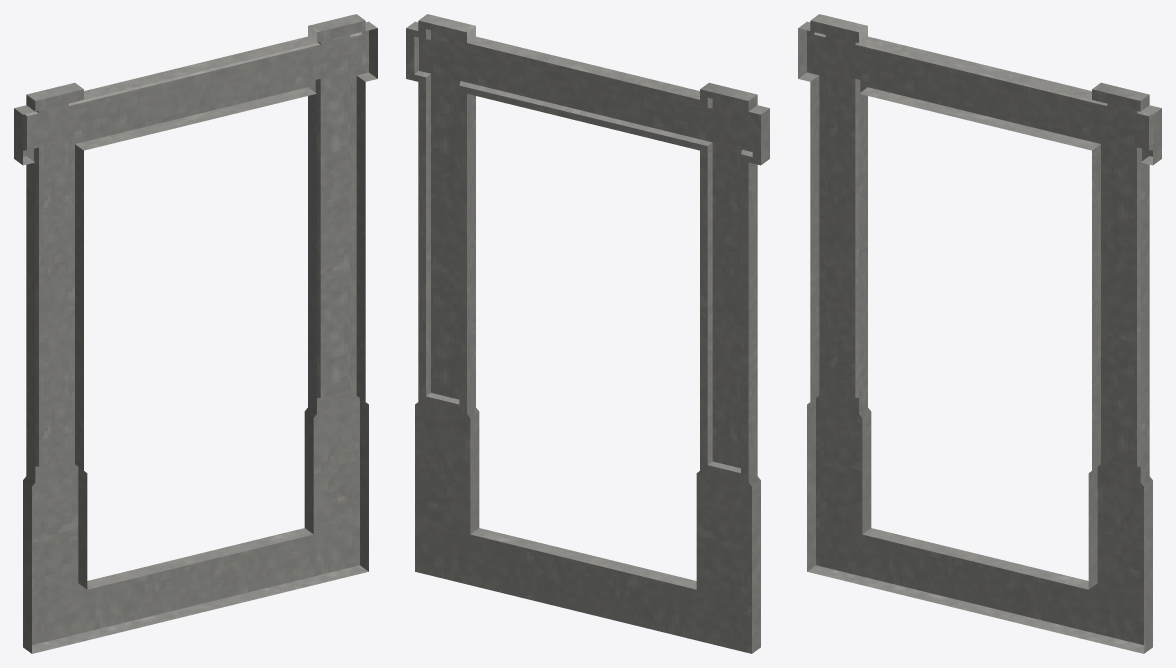
Rendered from GJ_Wall_Window_02_02.fbx.
The picture shows the model from 3 angles, left to right: view 1: azimuth 30°, elevation 25°; view 2: azimuth 150°, elevation 25°; view 3: azimuth 330°, elevation 25°; orthographic projection.
Parts seen in each view (by area): view 1: GJ_Wall_Window_02_02; view 2: GJ_Wall_Window_02_02; view 3: GJ_Wall_Window_02_02.
Part boxes in pixels (<box>): GJ_Wall_Window_02_02: <box>14,14,377,653</box>; GJ_Wall_Window_02_02: <box>406,14,769,653</box>; GJ_Wall_Window_02_02: <box>798,14,1161,653</box>.
Bounding box in the file's own units: 137 × 204 × 5.98.
